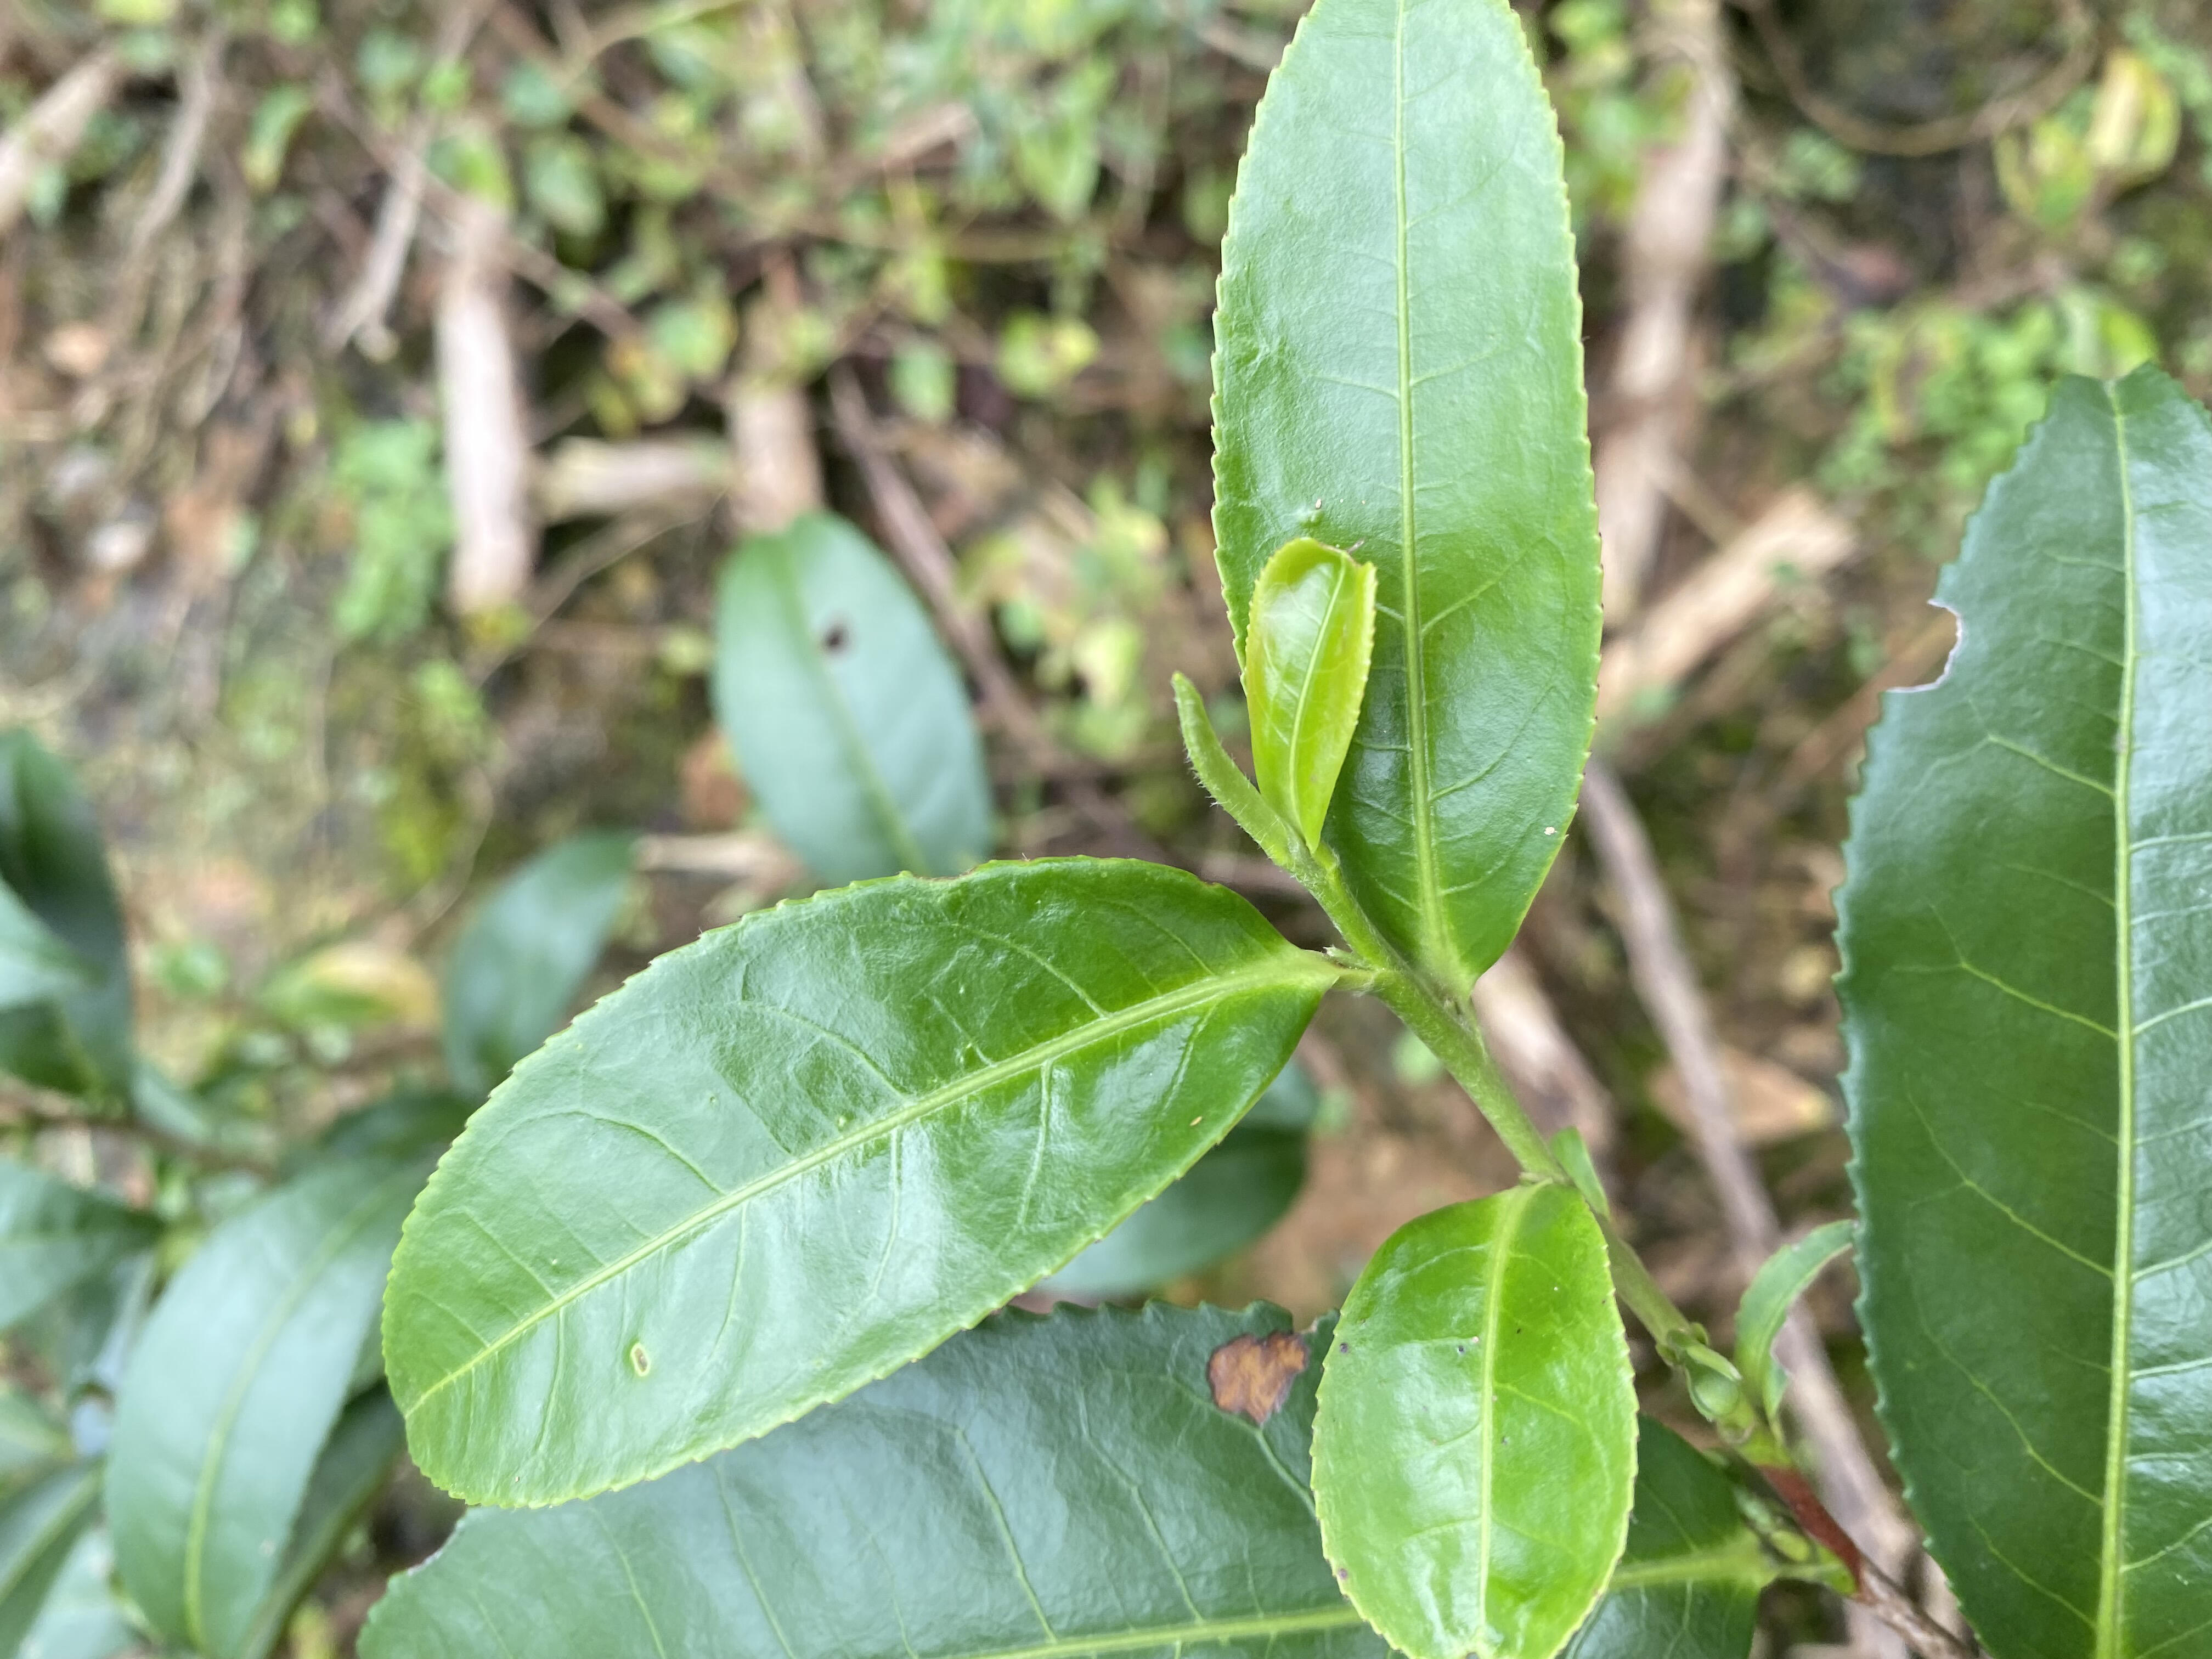chihuo_low: (1825, 361, 2210, 1654)
healthy: (1211, 7, 1599, 995)
tanju_low: (359, 1300, 1761, 1659)
